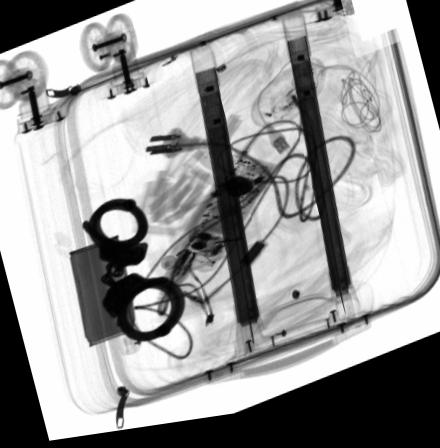HandCuffs: (79, 201, 185, 345)
